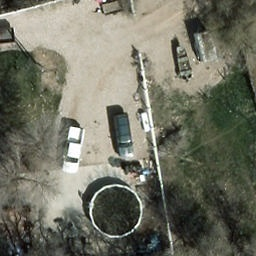boat: (173, 46, 197, 80)
car: (111, 114, 134, 159)
pickup: (65, 127, 85, 175), (0, 29, 16, 46)
